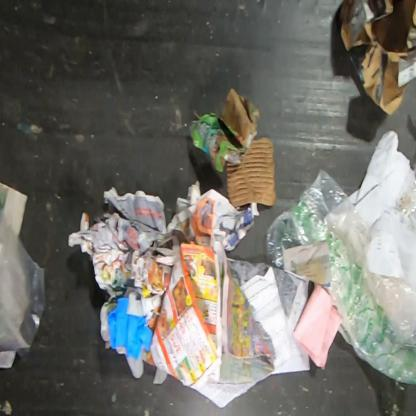cardboard: (336, 0, 415, 117), (188, 88, 260, 173), (226, 137, 276, 208)
soft_plastic: (264, 168, 416, 388), (0, 201, 47, 362), (392, 158, 415, 230)
